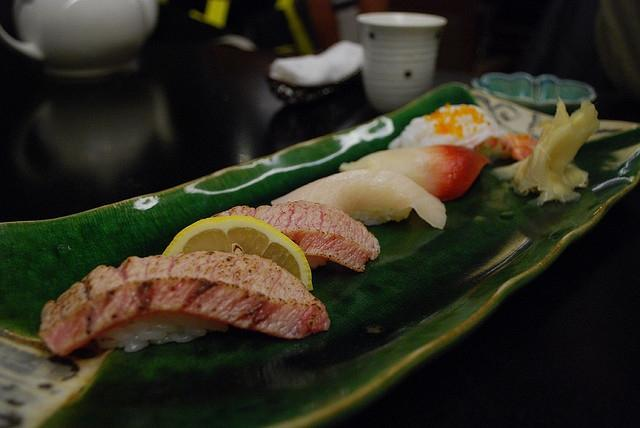lemon: (162, 215, 314, 291)
